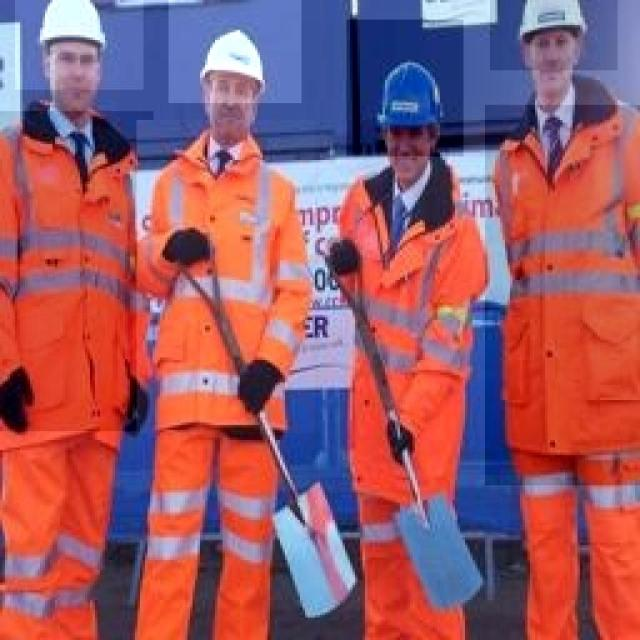Helmet: (318, 157, 510, 526), (485, 105, 640, 485), (137, 120, 315, 434), (0, 112, 154, 432), (346, 20, 464, 162), (168, 0, 302, 103), (15, 0, 143, 90), (490, 0, 618, 70)
